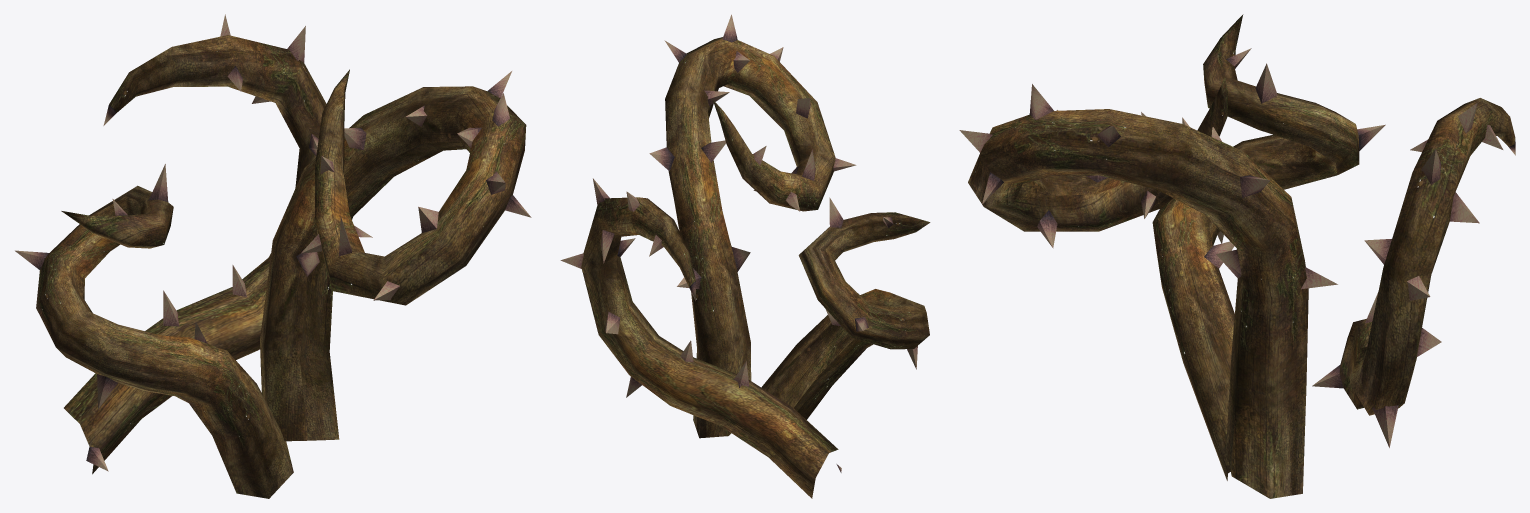
File: obj_mtthund_thorn03a.glb
3 views of the same model, side by side, from view 1: azimuth 30°, elevation 25°; view 2: azimuth 150°, elevation 25°; view 3: azimuth 270°, elevation 25° (orthographic). The views are drawn at different scales.
Visible parts, largest first — view 1: Object02; view 2: Object02; view 3: Object02.
Part boxes in pixels (box(x1,y1,x2,y2)): Object02: box(15, 14, 531, 498); Object02: box(560, 14, 930, 498); Object02: box(959, 14, 1515, 498).
Size of the model in its own units: 8.38 by 8.88 by 9.43.
Materials: 1 (1 with a texture image).
